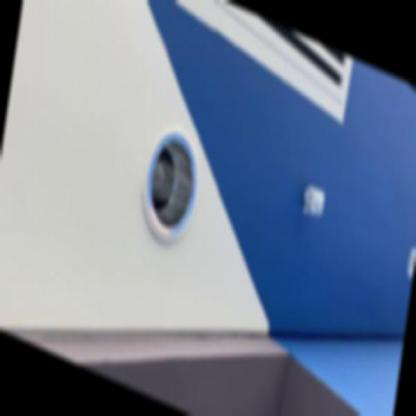light_off: (128, 90, 214, 259)
